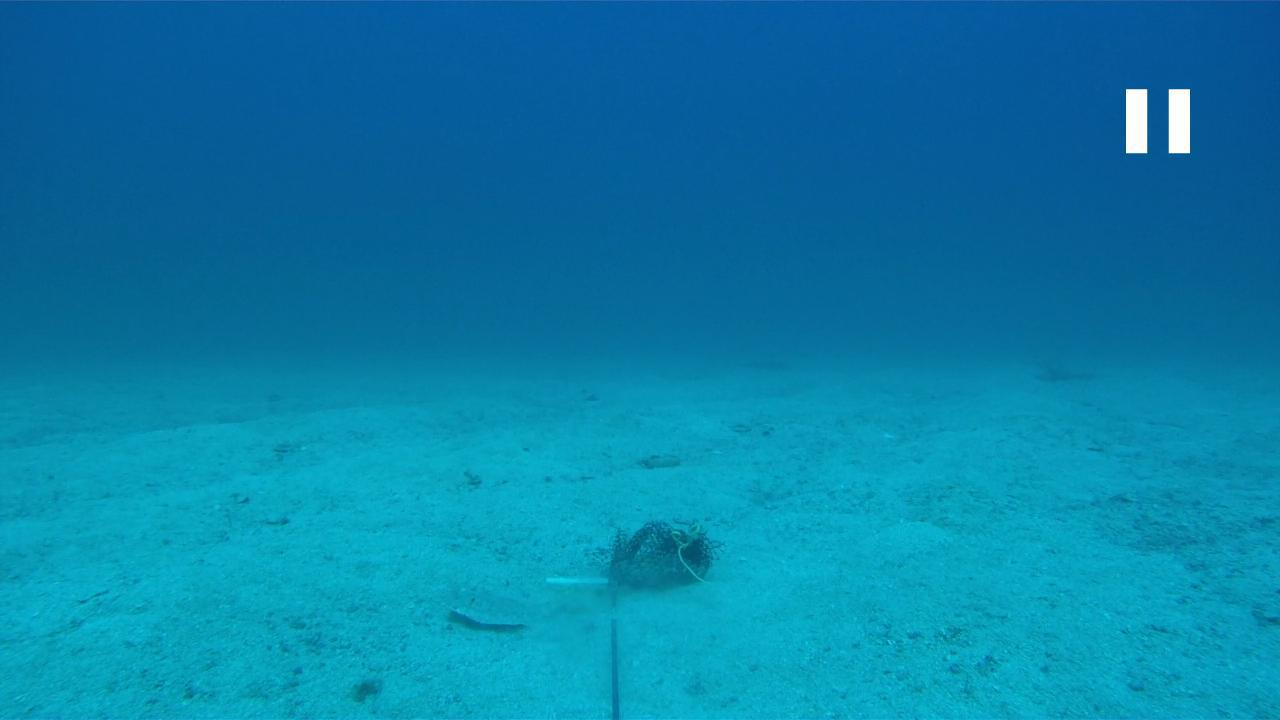bothus: (446, 583, 536, 632)
